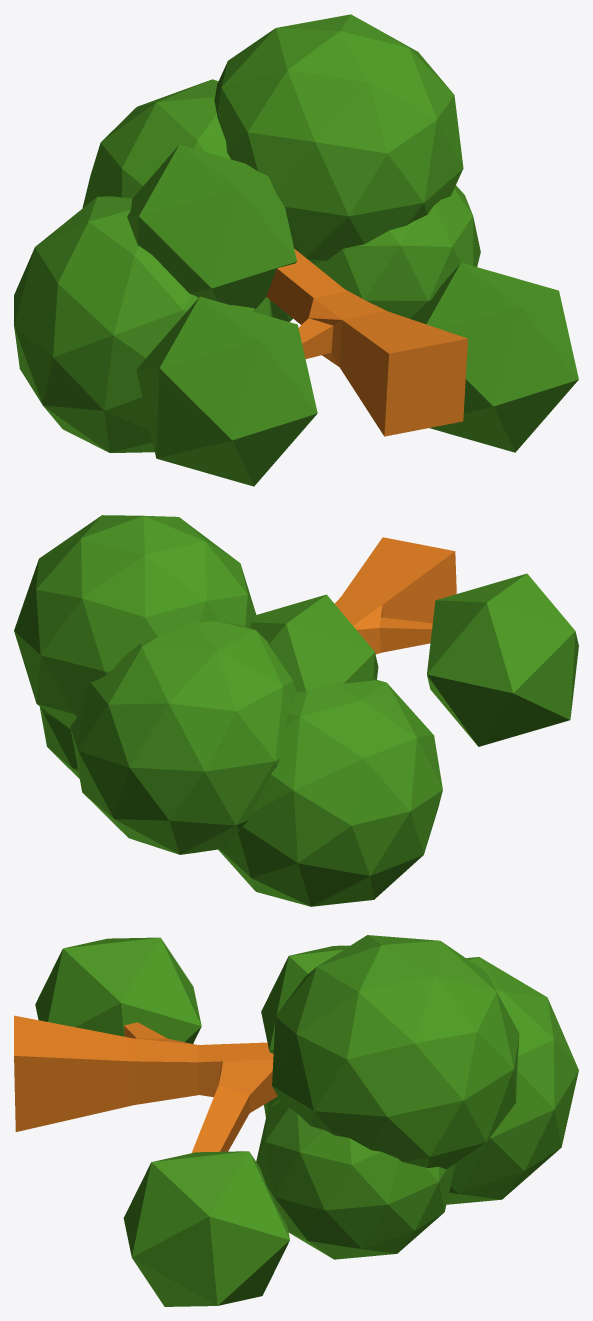
Rendered from tree3.fbx.
3 renders of one model, top to bottom at view 1: azimuth 30°, elevation 25°; view 2: azimuth 150°, elevation 25°; view 3: azimuth 270°, elevation 25°, orthographic. The views are drawn at different scales.
Parts seen in each view (by area): view 1: Cube.002; view 2: Cube.002; view 3: Cube.002.
Part boxes in pixels (x1,y1,x2,y2): Cube.002: (14, 14, 578, 486); Cube.002: (14, 515, 578, 906); Cube.002: (14, 935, 578, 1306).
Bounding box in the file's own units: 275 × 213 × 313.
